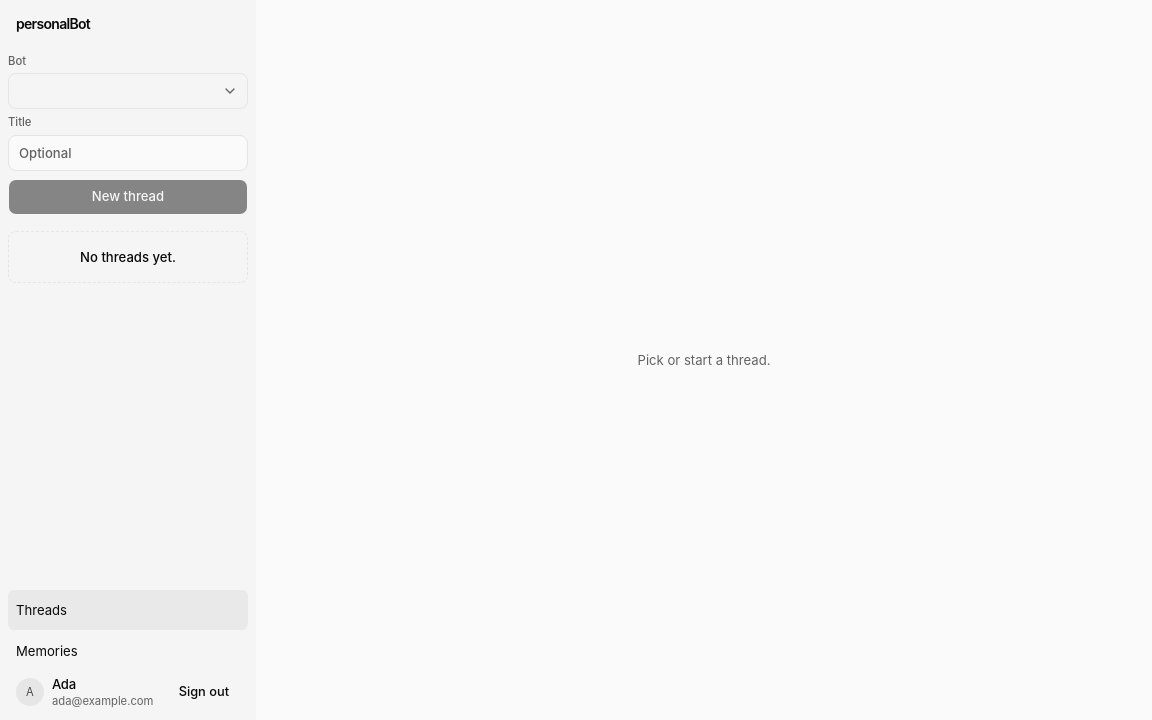
it: App › keeps the threads in the sidebar on the memories page and opens the chat from there
Click the button "Memories": (128, 651) x1=8 y1=631 x2=248 y2=671
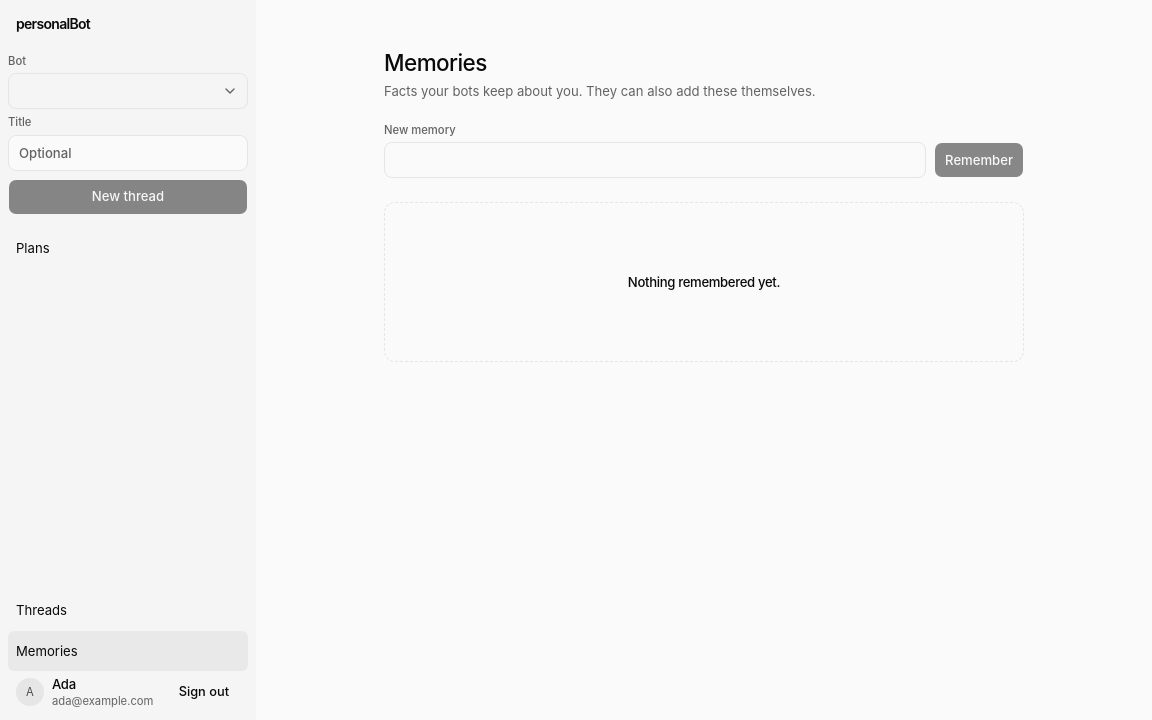
Now the text "Nothing remembered yet." is shown, box x1=628 y1=273 x2=780 y2=291
Click the button "Plans": (128, 248) x1=8 y1=230 x2=248 y2=265
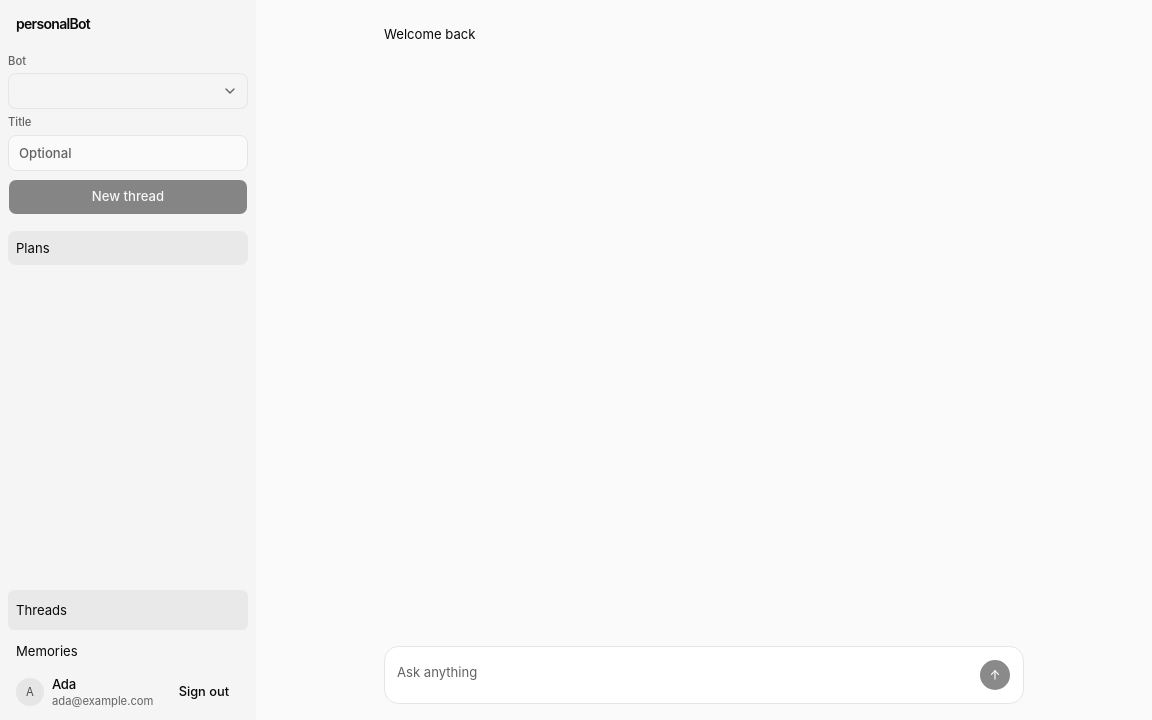
Now the text "Welcome back" is shown, box x1=384 y1=26 x2=475 y2=42
Now the text "Nothing remembered yet." is gone
